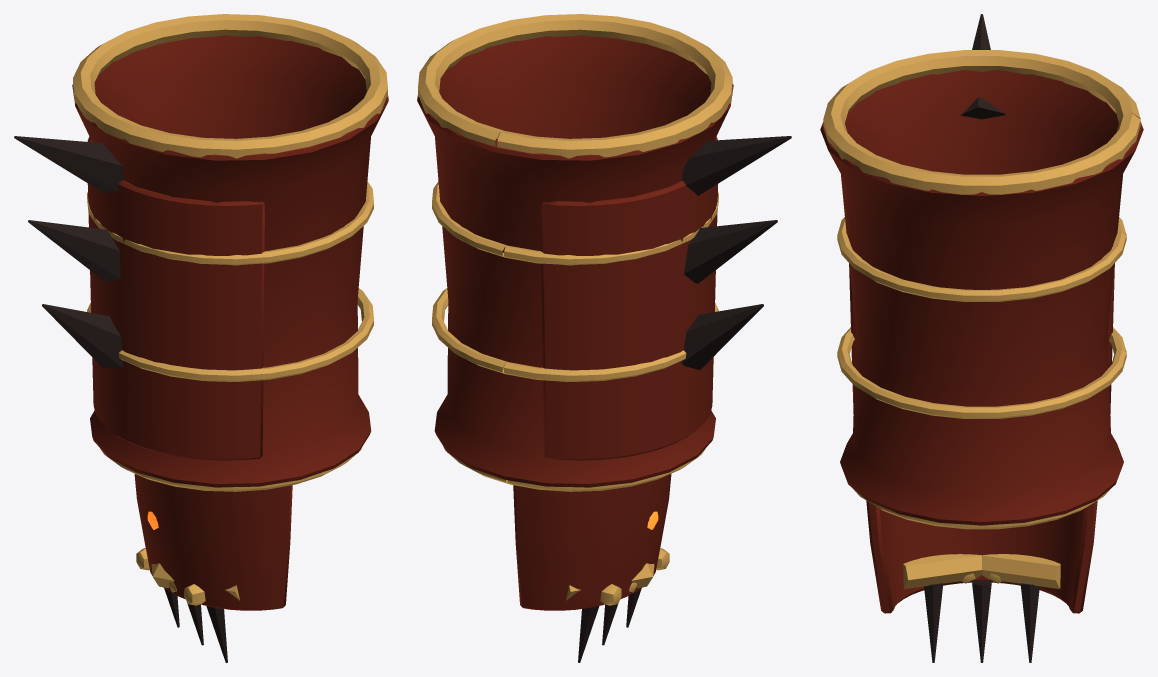
File: boss_dragonforge_gloves_2.glb
3 views of the same model, side by side, from view 1: azimuth 30°, elevation 25°; view 2: azimuth 150°, elevation 25°; view 3: azimuth 270°, elevation 25° (orthographic).
Visible parts, largest first — view 1: boss_dragonforge_gloves_2, AT_hand_R; view 2: boss_dragonforge_gloves_2, AT_hand_R; view 3: boss_dragonforge_gloves_2, AT_hand_R.
Boxes of the visible parts, bbox=[...] form: boss_dragonforge_gloves_2: bbox=[14, 14, 388, 491]; AT_hand_R: bbox=[134, 474, 292, 662]; boss_dragonforge_gloves_2: bbox=[417, 14, 791, 491]; AT_hand_R: bbox=[513, 474, 671, 662]; boss_dragonforge_gloves_2: bbox=[820, 14, 1143, 529]; AT_hand_R: bbox=[866, 500, 1097, 662].
Size of the model in its own units: 0.2539 by 0.385 by 0.2004.
